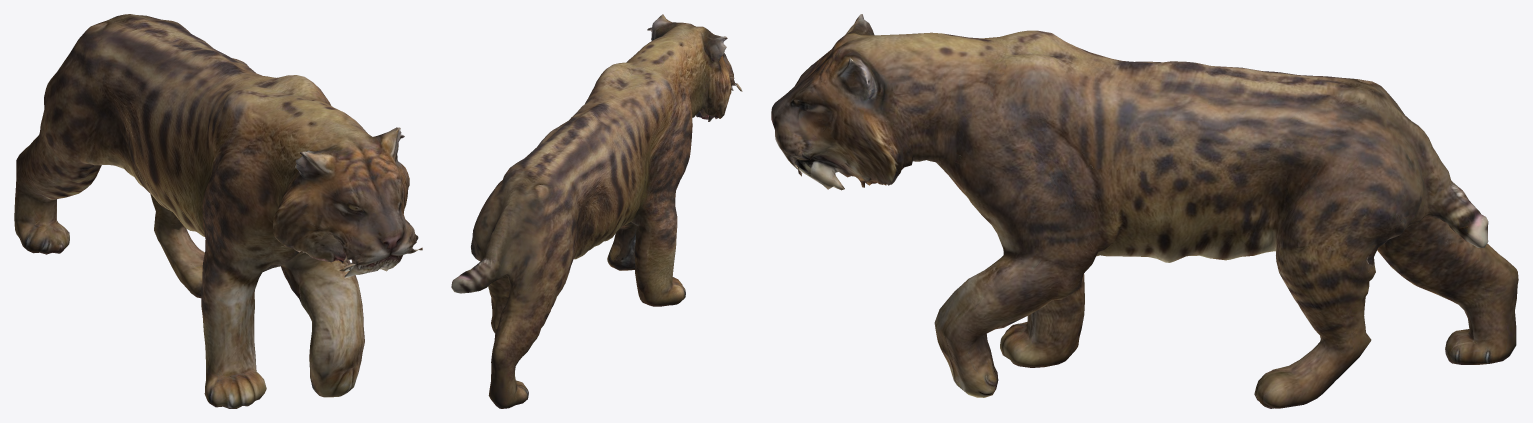
The model's file is saber-toothed-tiger.glb.
The picture shows the model from 3 angles, left to right: view 1: azimuth 30°, elevation 25°; view 2: azimuth 150°, elevation 25°; view 3: azimuth 270°, elevation 25°; orthographic projection. The views are drawn at different scales.
Size of the model in its own units: 0.4868 by 1.03 by 2.01.
1 material, 1 textured.
